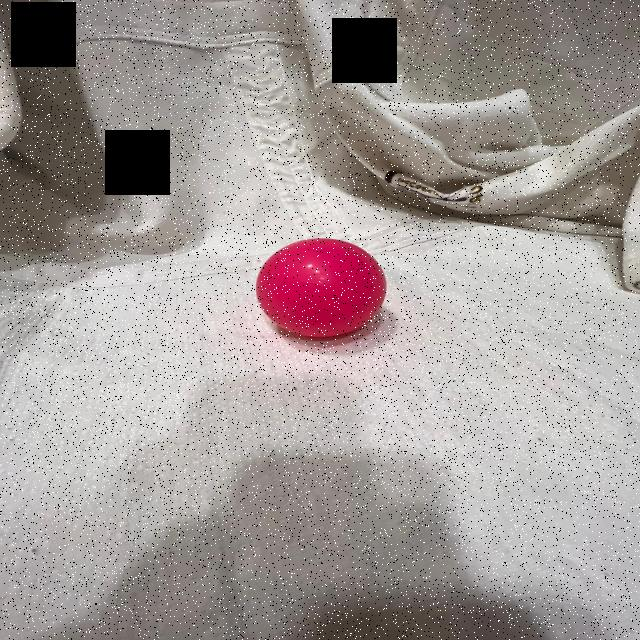ball: (252, 234, 389, 341)
